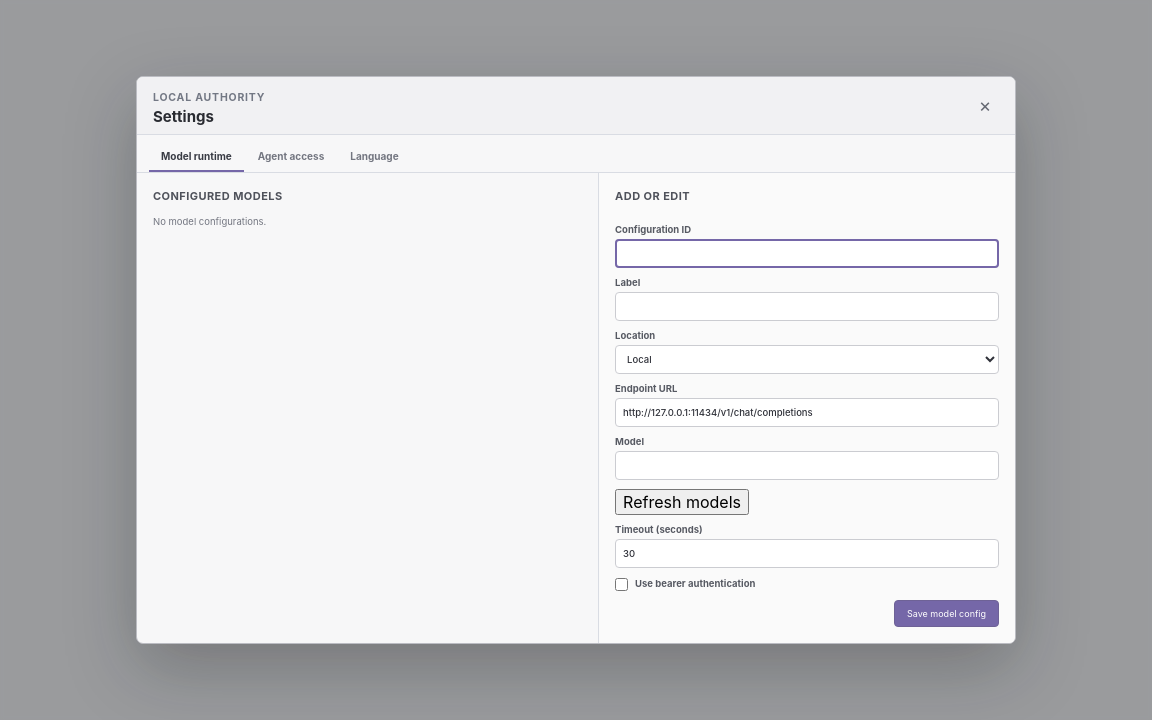
Test case: SettingsDialog › switches between model runtime and Agent access without nested dialogs
Expected: the field labelled "Configuration ID" is shown, [615,239,999,268]
Click the tab "Agent access" at (291,156), box [246,141,336,172]
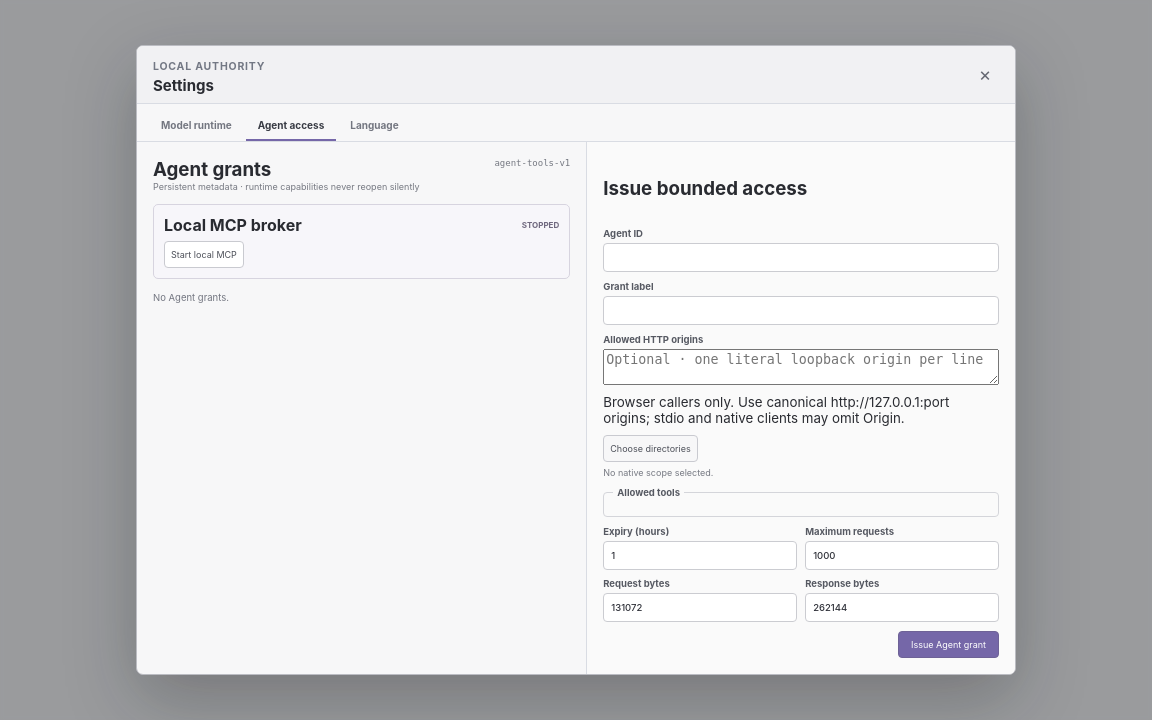
Expected: the field labelled "Agent ID" is shown, [603,243,999,272]
Result: the label labelled "Configuration ID" is gone
